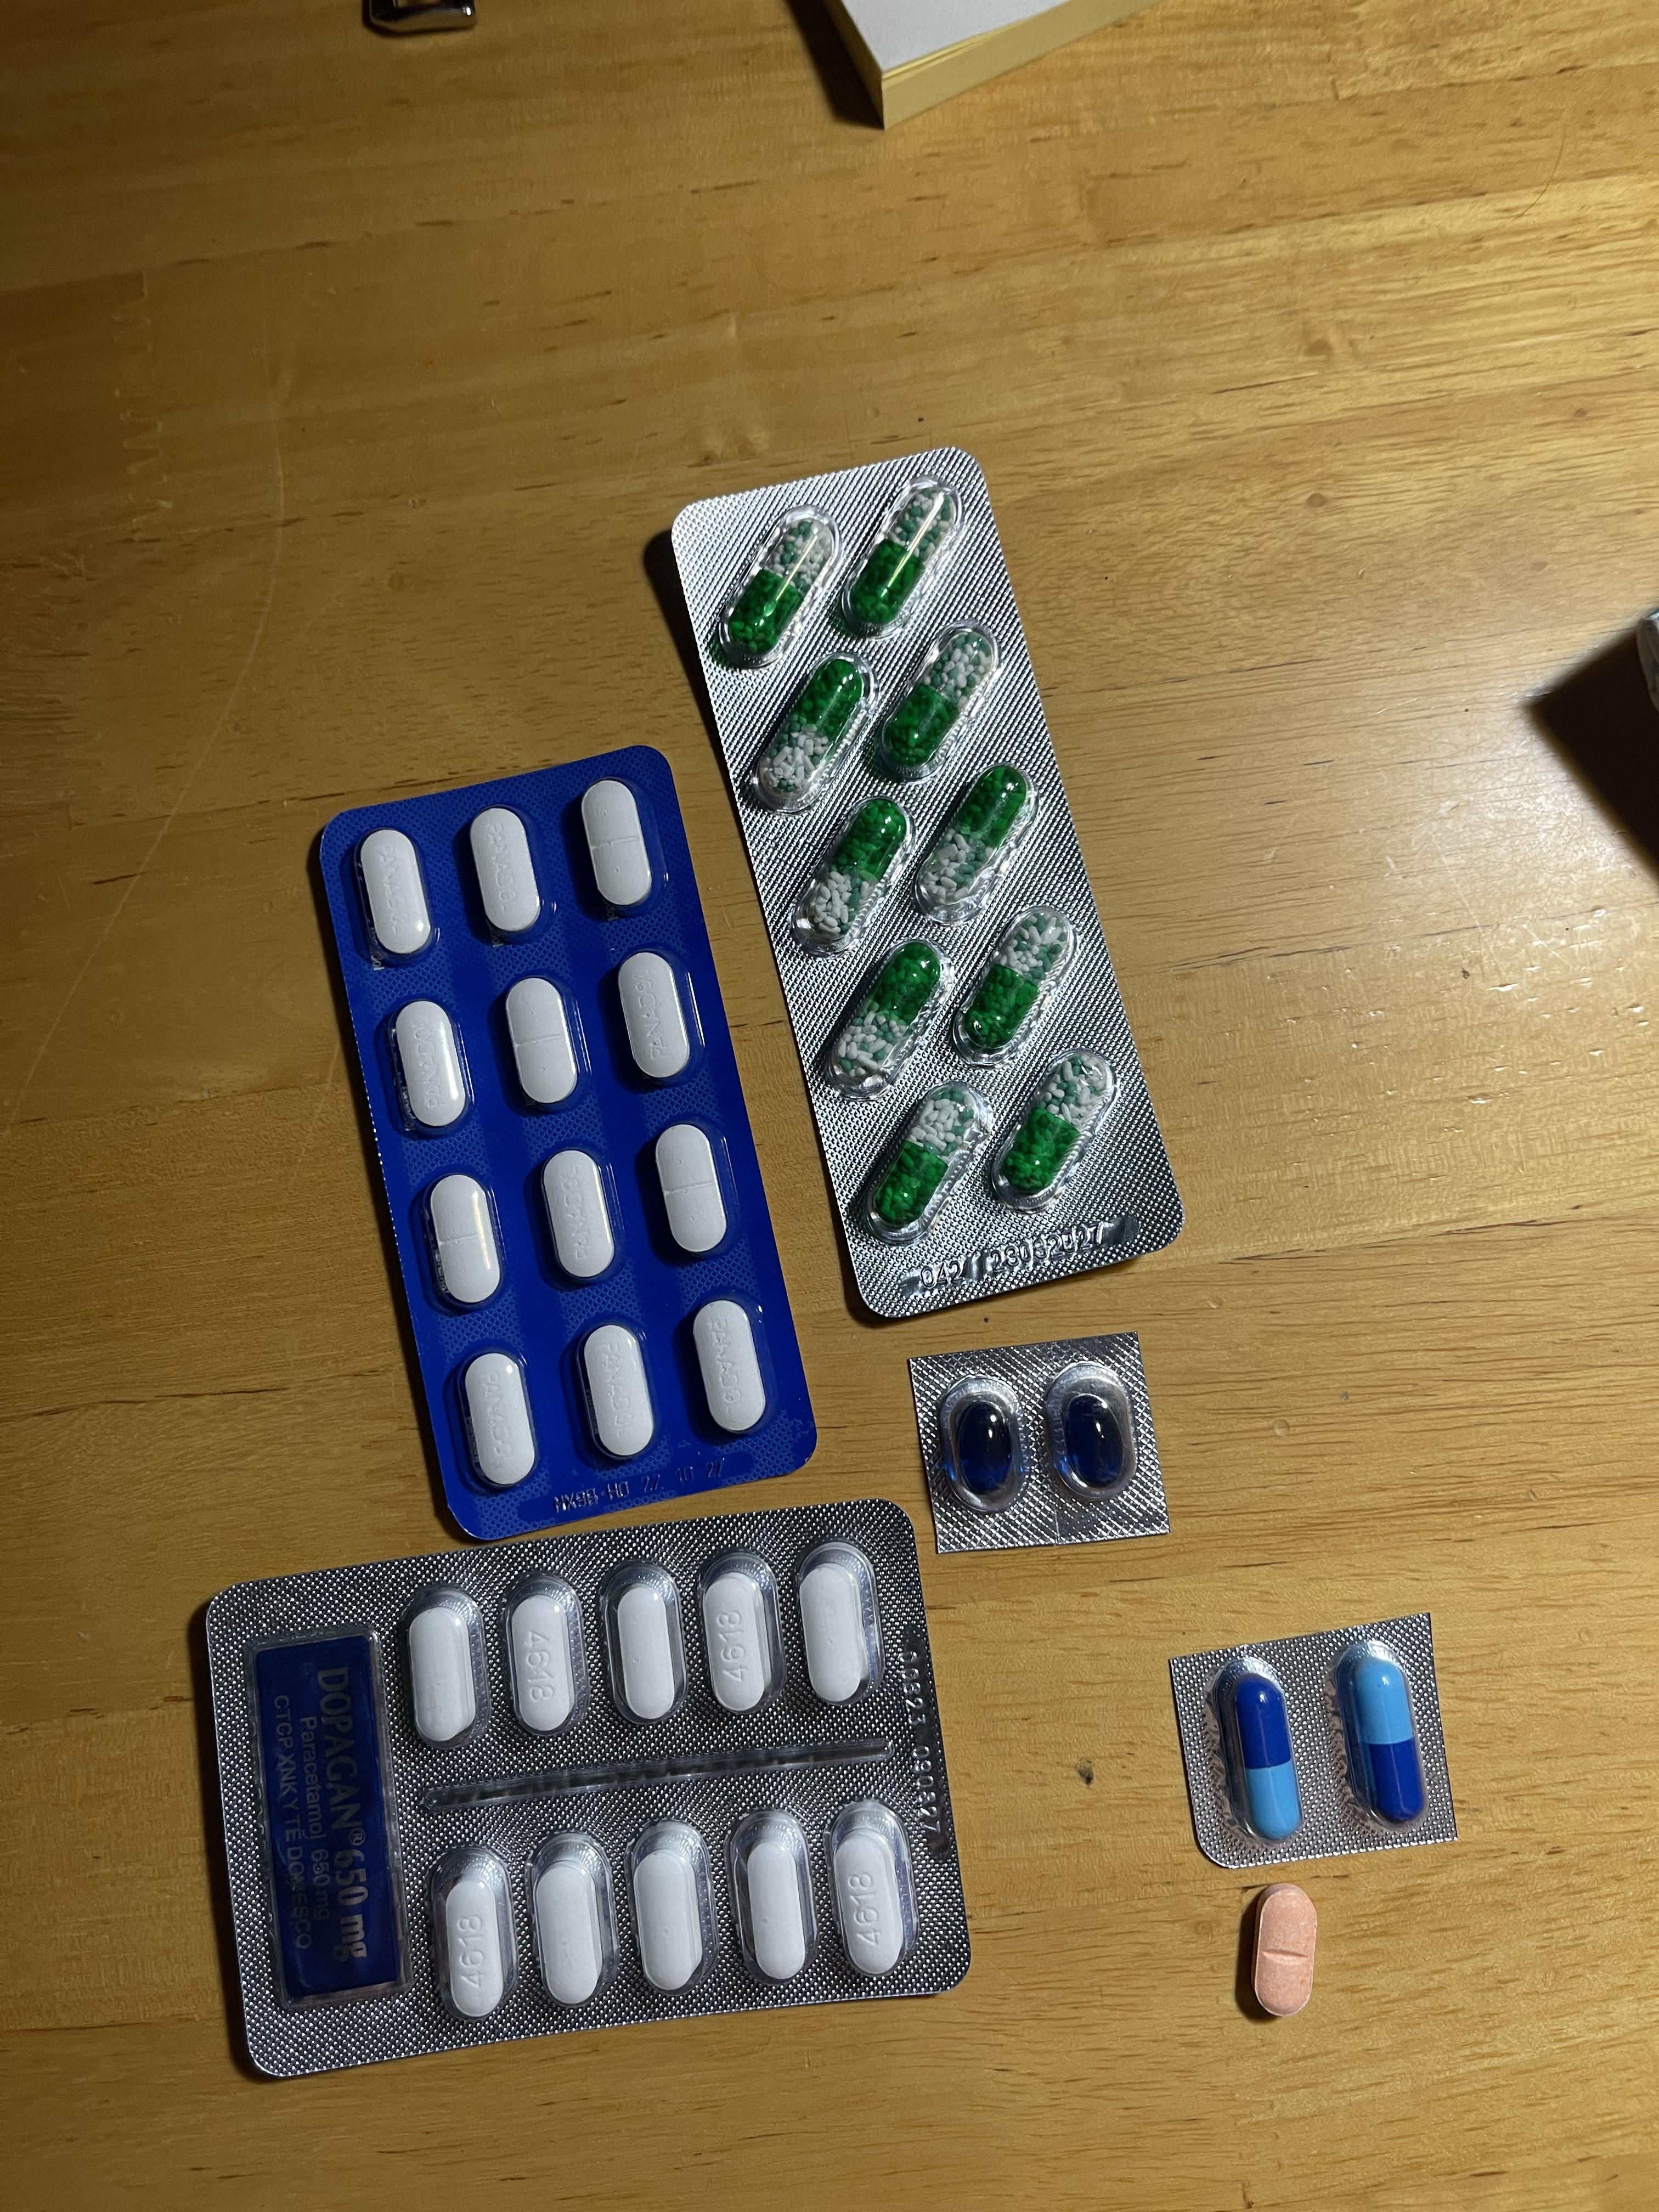Lincomyxin_500mg: (1065, 1395, 1126, 1491), (957, 1397, 1016, 1493)
Loratadine_10mg: (1251, 1881, 1321, 2019)
Paracetamol_350mg: (575, 1322, 655, 1461), (460, 1353, 537, 1494), (538, 1148, 619, 1282), (425, 1174, 502, 1312), (617, 951, 694, 1087), (504, 977, 582, 1109), (692, 1301, 769, 1435), (655, 1123, 730, 1258), (357, 827, 432, 960), (392, 1000, 467, 1130), (469, 808, 544, 937), (580, 780, 653, 909)
Paracetamol_500mg: (532, 1832, 615, 2008), (631, 1818, 714, 1993), (732, 1810, 814, 1987), (436, 1843, 518, 2019), (830, 1801, 910, 1979), (603, 1561, 687, 1719), (504, 1571, 584, 1733), (796, 1548, 875, 1703), (701, 1564, 775, 1714), (410, 1601, 476, 1747)
Paracetamol_650mg: (988, 1050, 1122, 1212), (711, 505, 843, 669), (854, 1080, 990, 1238), (871, 618, 1002, 775), (836, 475, 964, 636), (821, 937, 950, 1090), (908, 766, 1039, 913), (948, 904, 1072, 1055), (751, 655, 877, 803), (795, 796, 918, 944)
pill: (1344, 1648, 1422, 1822), (1230, 1667, 1302, 1841)
